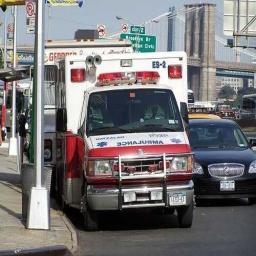ambulance: (54, 52, 193, 230), (44, 39, 132, 165)
